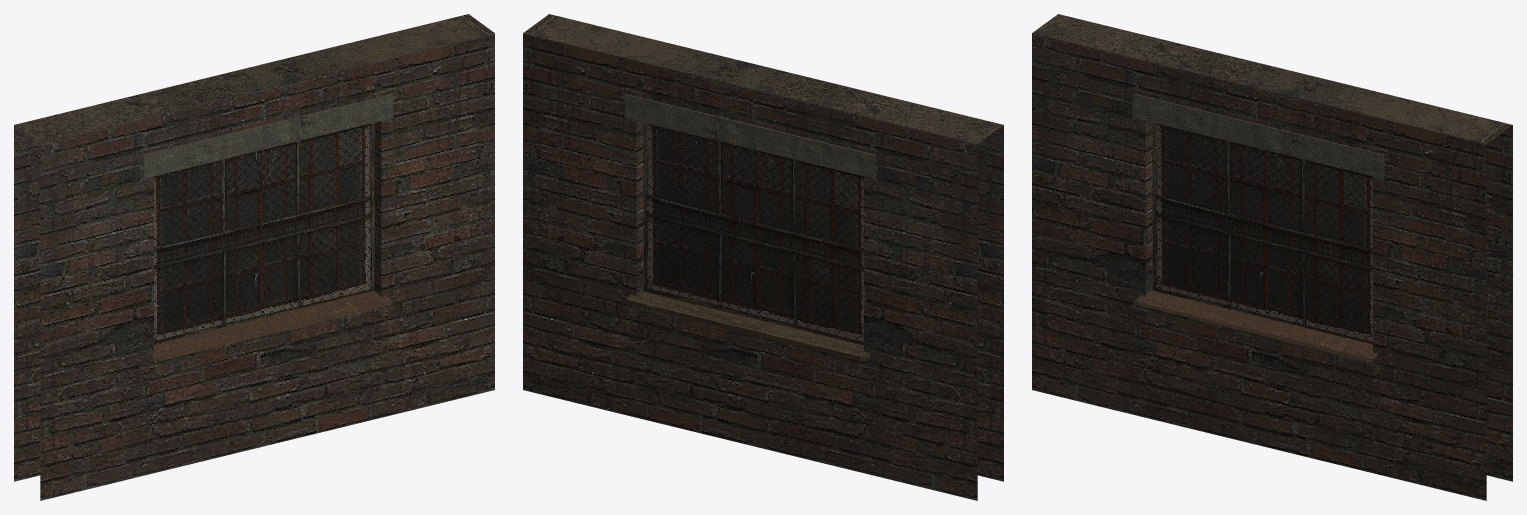
File: window_hs_1.glb
3 renders of one model, left to right at view 1: azimuth 30°, elevation 25°; view 2: azimuth 150°, elevation 25°; view 3: azimuth 330°, elevation 25°, orthographic.
Visible parts, largest first — view 1: window_hs_1; view 2: window_hs_1; view 3: window_hs_1.
Boxes of the visible parts, box(x1,y1,x2,y2) form: window_hs_1: box(14, 14, 494, 500); window_hs_1: box(523, 14, 1003, 500); window_hs_1: box(1032, 14, 1512, 500).
Size of the model in its own units: 4 by 3 by 0.595.
Materials: 6 (6 with a texture image).
